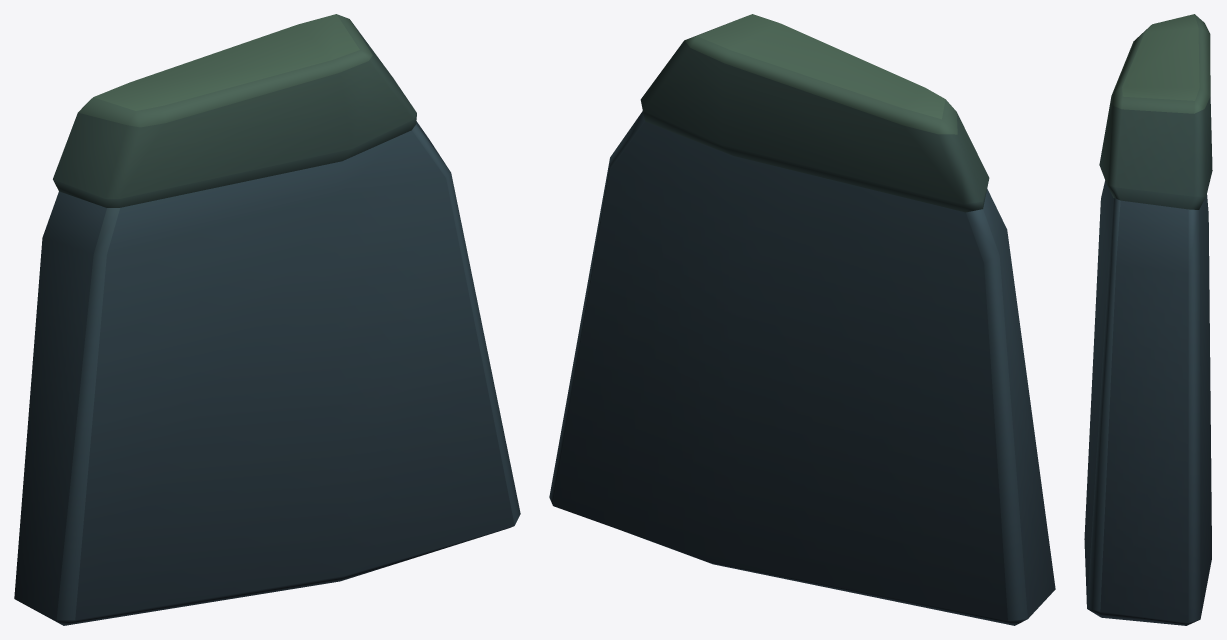
File: rock_large_grass_03.fbx
3 views of the same model, side by side, from view 1: azimuth 30°, elevation 25°; view 2: azimuth 150°, elevation 25°; view 3: azimuth 270°, elevation 25° (orthographic). The views are drawn at different scales.
Parts seen in each view (by area): view 1: rock_large_grass_03; view 2: rock_large_grass_03; view 3: rock_large_grass_03.
Part boxes in pixels (x1,y1,x2,y2): rock_large_grass_03: [14, 14, 520, 625]; rock_large_grass_03: [549, 14, 1055, 625]; rock_large_grass_03: [1084, 14, 1212, 625].
Size of the model in its own units: 1224 by 1275 by 312.
